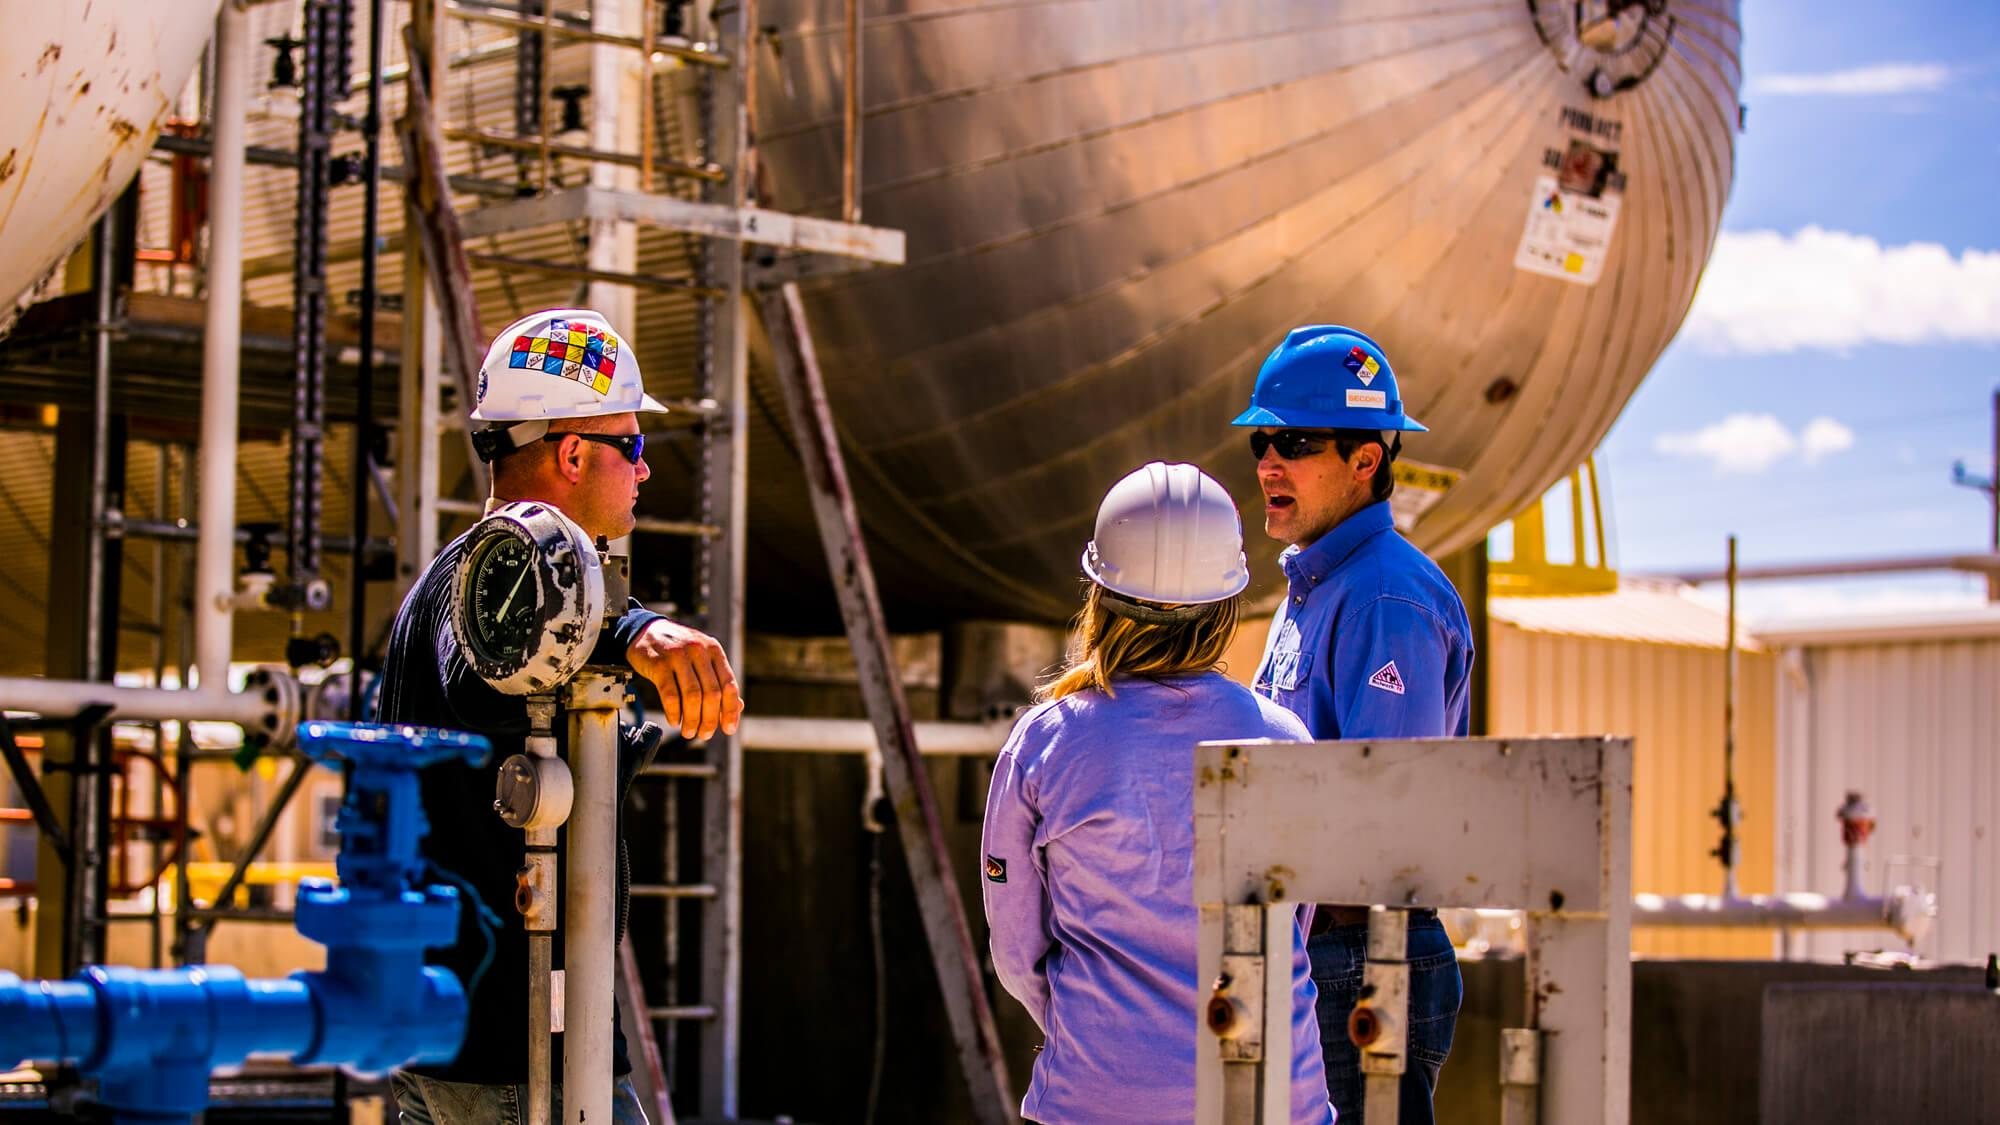helmet: (1081, 462, 1255, 613), (463, 305, 669, 427), (1234, 319, 1431, 441)
